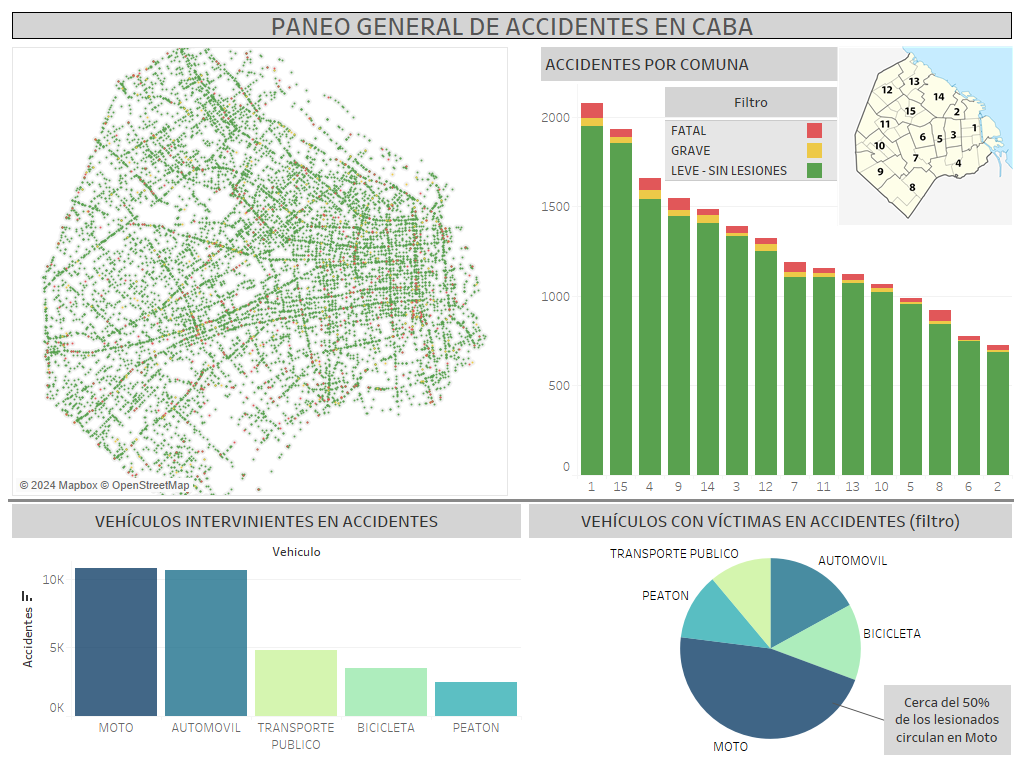

This screenshot's page, from the dashboard's own definition file:
{"tool":"tableau","page":{"name":"D1","canvas":[1024,768],"ordinal":0},"visuals":[{"type":"text","box":[8,8,1008,35.5]},{"type":"worksheet","title":"Mapa","mark":"Automatic","rows":["Calculation_395472345586884608"],"cols":["Calculation_395472345587179521"],"box":[8,43.5,529,456.5]},{"type":"worksheet","title":"Comuna","mark":"Automatic","rows":["comuna"],"cols":["comuna"],"box":[537,43.5,479,456.5]},{"type":"image","param":"C:/Users/Usuario/Desktop/Varios yo/SoyHenry/P2/Henry_PI2_Accidentes/presentacion","box":[831,46,189,180]},{"type":"worksheet","title":"EtGr","mark":"Automatic","rows":["gravedad"],"box":[665,87,176,104]},{"type":"blank","box":[8,499,1006,3]},{"type":"worksheet","title":"VeT","mark":"Bar","rows":["vehiculosTotal.csv_1A3C0C1402074C808194C7E335D8BECA"],"cols":["vehiculo"],"box":[8,500,517.3,260]},{"type":"worksheet","title":"VeV","mark":"Pie","box":[525.3,500,490.7,260]}]}

Visuals, with their boxes in screenshot pixels (x1, y1, x2, y2), scaled from the page's 1024x768 canvas onto the 1024x768 screenshot:
text: locate(8, 8, 1016, 44)
"Mapa" worksheet: locate(8, 44, 537, 500)
"Comuna" worksheet: locate(537, 44, 1016, 500)
image: locate(831, 46, 1020, 226)
"EtGr" worksheet: locate(665, 87, 841, 191)
blank: locate(8, 499, 1014, 502)
"VeT" worksheet (Bar marks): locate(8, 500, 525, 760)
"VeV" worksheet (Pie marks): locate(525, 500, 1016, 760)
